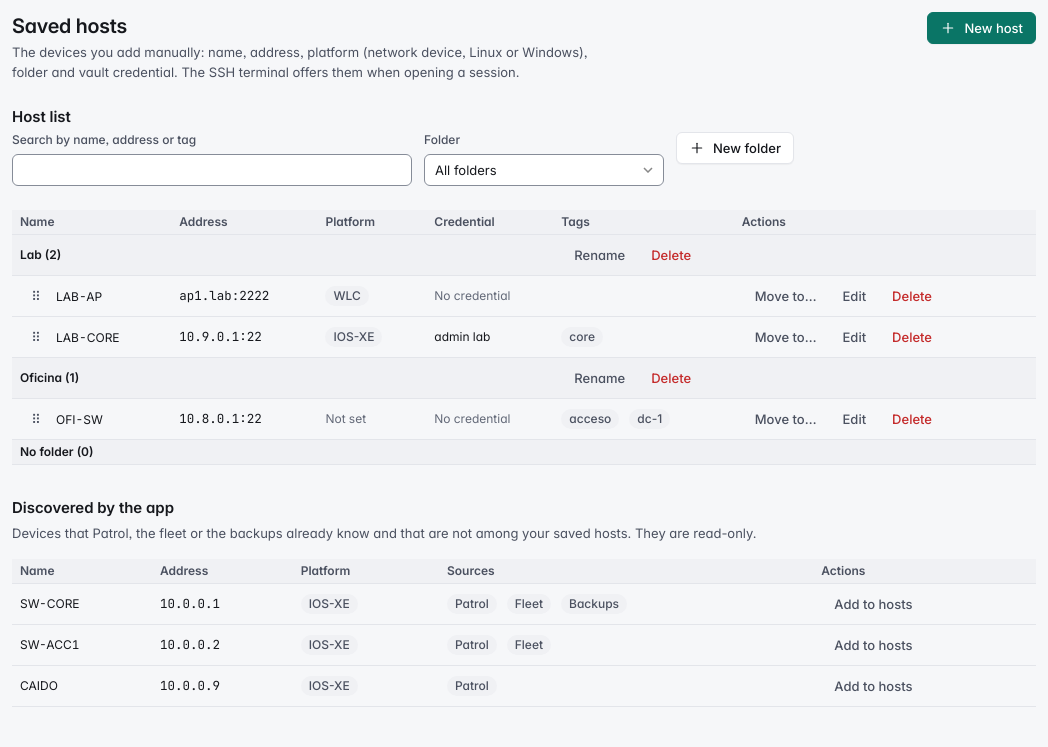
Test case: en inglés el error del núcleo en el formulario se muestra tal cual (ya llega traducido)
This screenshot has width=1048, height=747.
Check: the table named "Host list" is shown, box [12, 210, 1036, 465]
Click the button "New host".
click(982, 28)  # box [927, 12, 1036, 44]
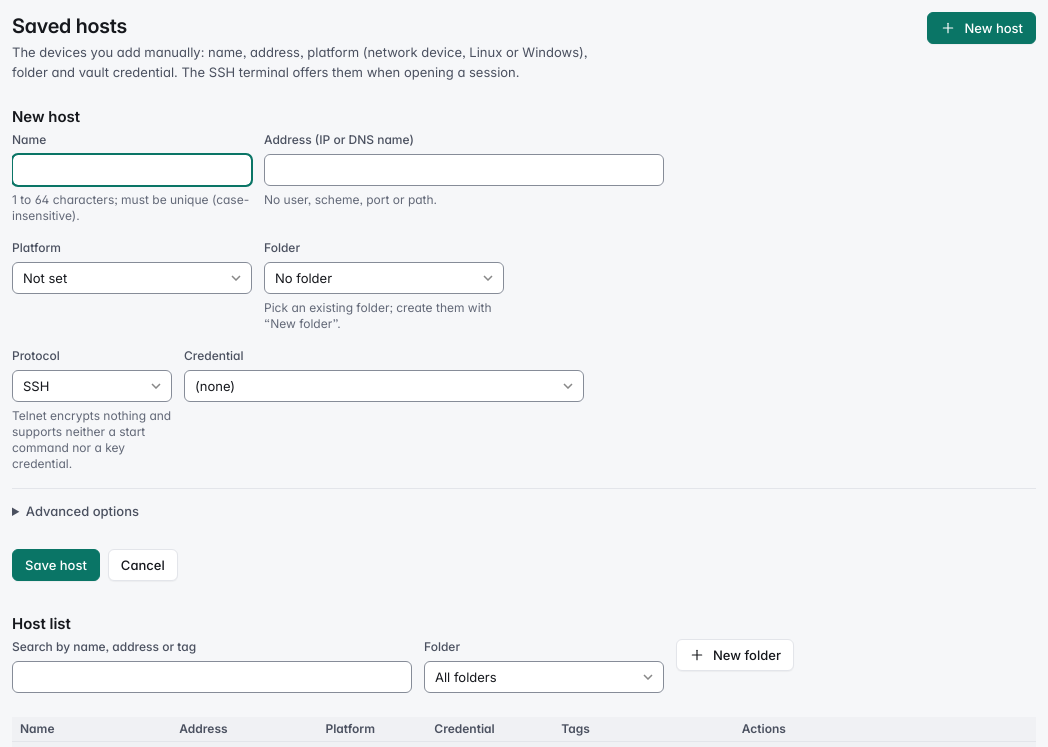
Type "lab-core" into the field labelled "Name".
click(132, 170); type("lab-core")  # box [12, 154, 252, 186]
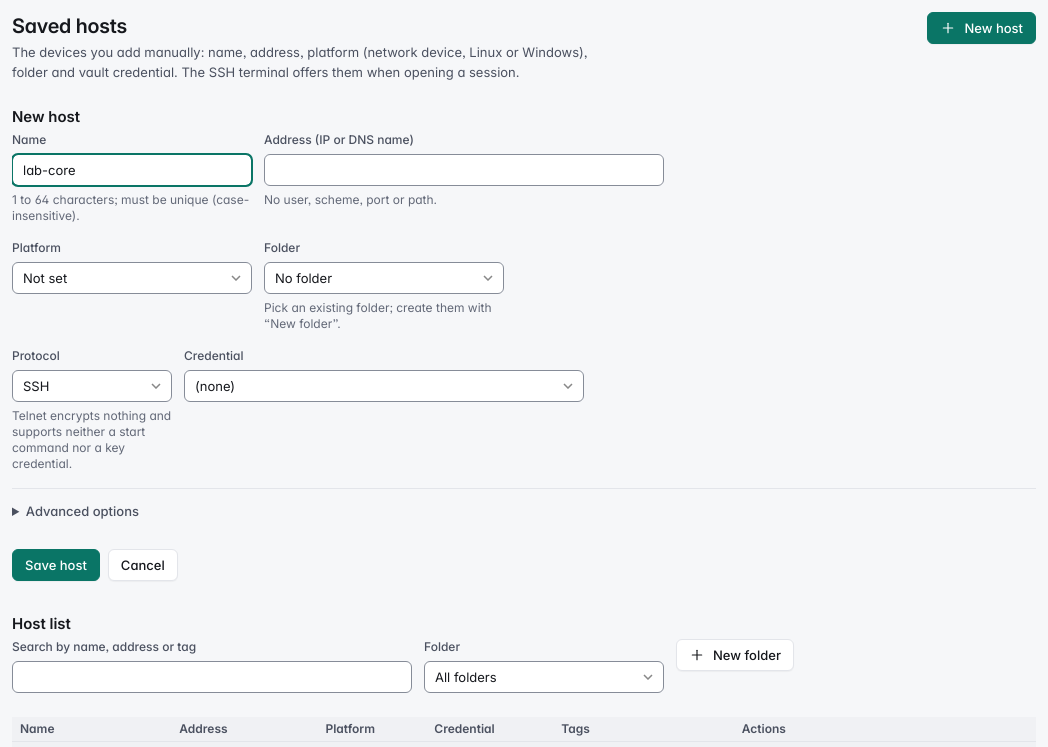
Type "10.0.0.50" into the field labelled "Address (IP or DNS name)".
click(464, 170); type("10.0.0.50")  # box [264, 154, 664, 186]
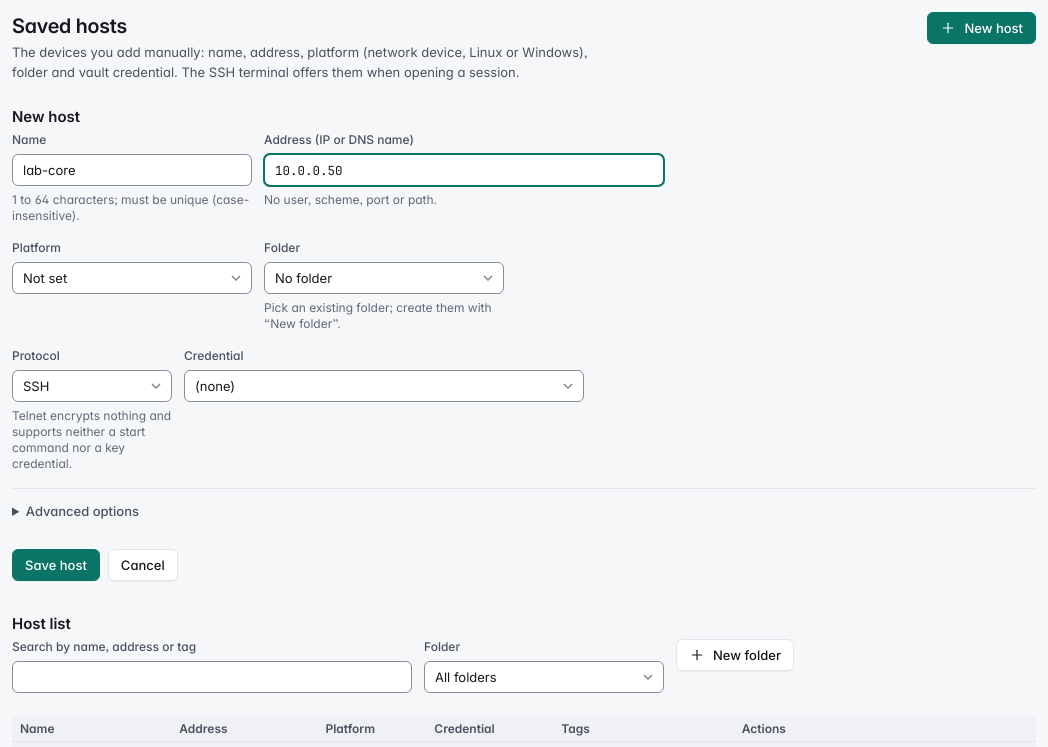
Click the button "Save host".
click(56, 565)  # box [12, 549, 100, 581]
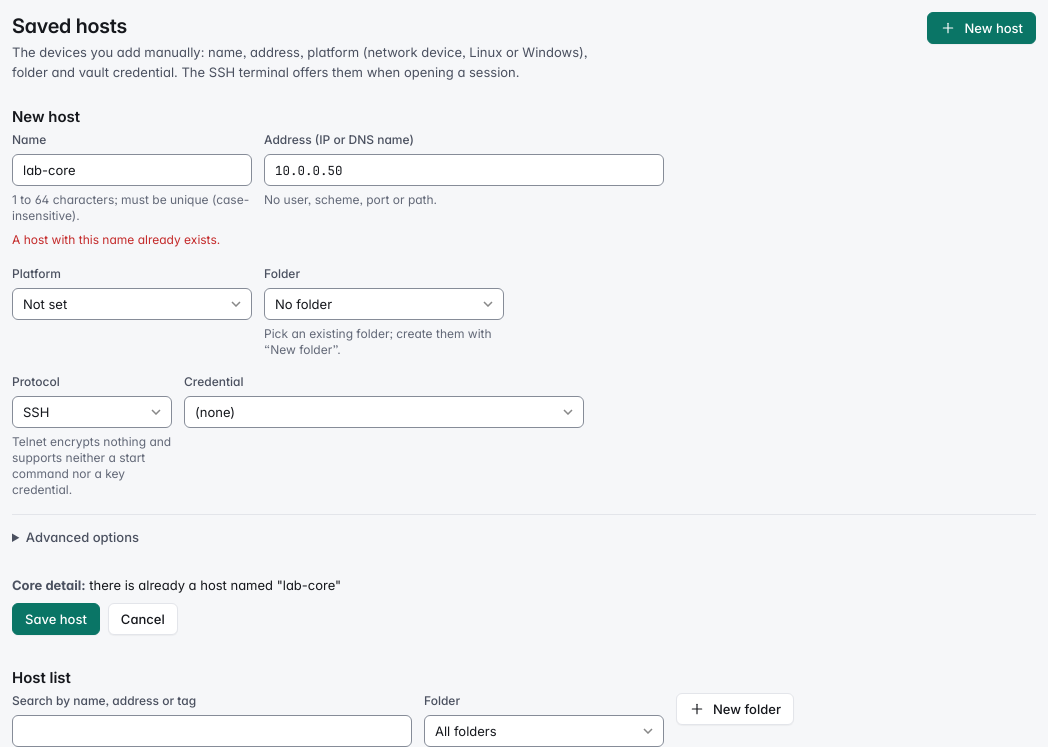
Check: the text "A host with this name already exists." is shown, box [12, 230, 252, 250]
Check: the text "there is already a host named \"lab-core\"" is shown, box [89, 577, 341, 593]
